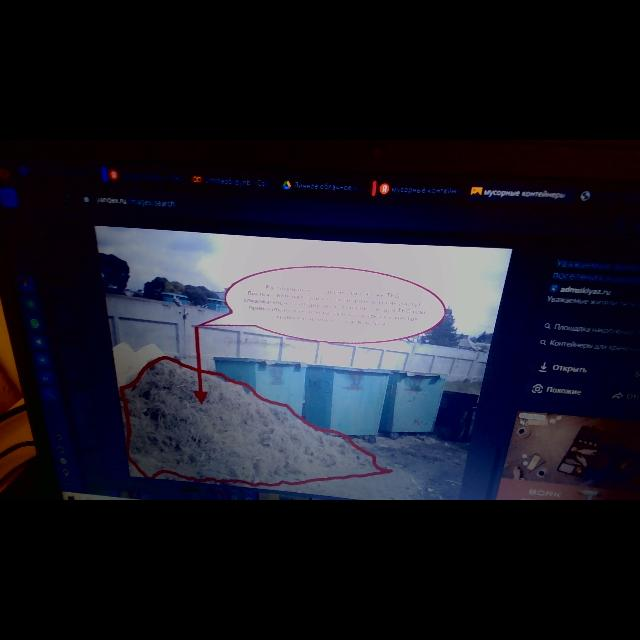Trash_Can_Empty: (305, 363, 391, 435), (214, 355, 307, 417), (380, 368, 446, 433)
